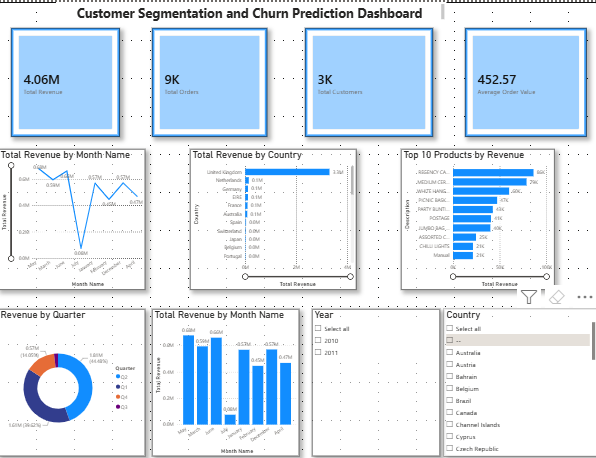

The dashboard page shown, as its layout file describes it:
{"tool":"powerbi","page":{"name":"Executive Dashboard","canvas":[1500,1500],"ordinal":0},"visuals":[{"type":"textbox","box":[144,0,976,64],"z":0},{"type":"cardVisual","fields":{"Data":["mea.Total Revenue"]},"box":[32,64,272,272],"z":1000},{"type":"cardVisual","fields":{"Data":["mea.Average Order Value"]},"box":[1168,64,304,272],"z":2000},{"type":"cardVisual","fields":{"Data":["mea.Total Orders"]},"box":[384,64,288,272],"z":3000},{"type":"cardVisual","fields":{"Data":["mea.Total Customers"]},"box":[768,64,320,272],"z":4000},{"type":"lineChart","fields":{"Y":["mea.Total Revenue"],"Category":["Calendar.Month Name"]},"box":[0,368,368,352],"z":5000},{"type":"textbox","box":[416,584,16,8],"z":6000},{"type":"clusteredBarChart","fields":{"Y":["mea.Total Revenue"],"Category":["Sales_data.Country"]},"box":[480,368,416,352],"z":7000},{"type":"clusteredBarChart","title":"Top 10 Products by Revenue","fields":{"Category":["Products.Description"],"Y":["mea.Total Revenue"]},"box":[1008,368,384,352],"z":8000},{"type":"donutChart","title":"Revenue by Quarter","fields":{"Y":["mea.Total Revenue"],"Category":["Calendar.Quarter"]},"box":[0,768,368,368],"z":9000},{"type":"clusteredColumnChart","fields":{"Y":["mea.Total Revenue"],"Category":["Calendar.Month Name"]},"box":[384,768,368,368],"z":10000},{"type":"listSlicer","fields":{"Values":["Calendar.Year"]},"box":[784,768,320,368],"z":11000},{"type":"listSlicer","fields":{"Values":["customers.Country"]},"box":[1116,768,384,368],"z":12000}]}

Visuals, with their boxes on the page's 1500x1500 design canvas (x1, y1, x2, y2). These are canvas units, not pixel positions in the 596x458 screenshot, which may show the page scaled, cropped or inside an application window:
textbox: 144 0 1120 64
cardVisual - mea.Total Revenue: 32 64 304 336
cardVisual - mea.Average Order Value: 1168 64 1472 336
cardVisual - mea.Total Orders: 384 64 672 336
cardVisual - mea.Total Customers: 768 64 1088 336
lineChart - mea.Total Revenue x Calendar.Month Name: 0 368 368 720
textbox: 416 584 432 592
clusteredBarChart - mea.Total Revenue x Sales_data.Country: 480 368 896 720
"Top 10 Products by Revenue" clusteredBarChart: 1008 368 1392 720
"Revenue by Quarter" donutChart: 0 768 368 1136
clusteredColumnChart - mea.Total Revenue x Calendar.Month Name: 384 768 752 1136
listSlicer - Calendar.Year: 784 768 1104 1136
listSlicer - customers.Country: 1116 768 1500 1136
